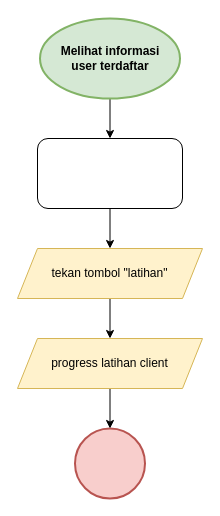
This 220x516 diagram has some shape labels left out. Here are the shapes that lost their labels. From the top down, the centre of each, then its label:
the point at 109,173: memilih user dengan tipe client
the point at 110,463: End
